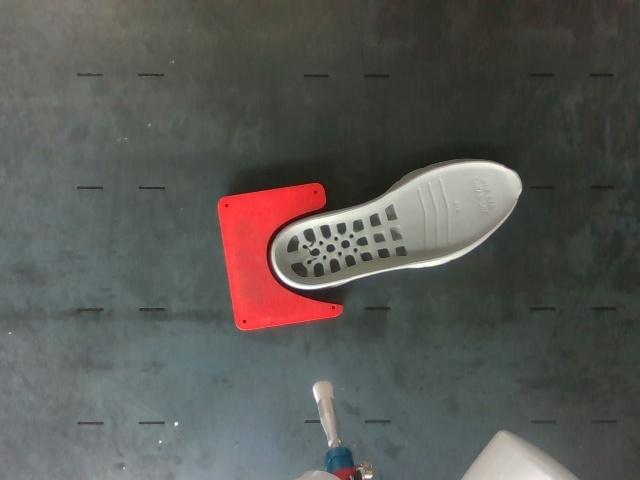shoes: (274, 163, 520, 286)
